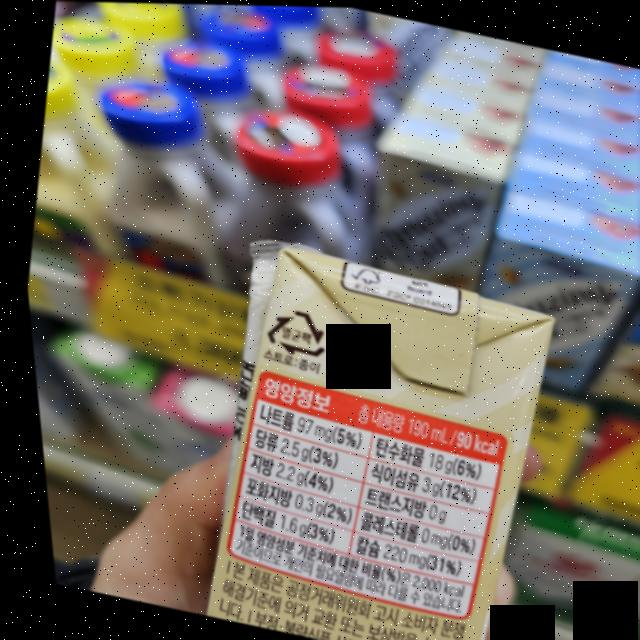SterilizedPack: (254, 301, 326, 361)
